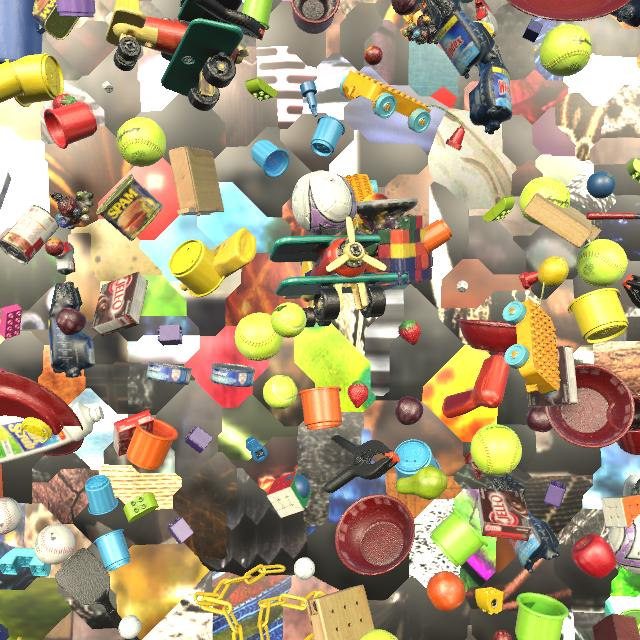ycb_004_sugar_box: (0, 169, 11, 210)
ycb_005_tomato_soup_can: (0, 205, 59, 264)
ycb_006_mustard_bottle: (180, 228, 257, 291)
ycb_007_tuna_fish_can: (211, 363, 256, 387), (146, 362, 192, 385)
ycb_008_pudding_box: (91, 272, 148, 337), (527, 345, 579, 408), (477, 487, 532, 541)
ycb_009_gelatin_box: (113, 409, 154, 456)
ycb_010_potted_meat_can: (96, 174, 163, 241), (33, 0, 80, 40)
ycb_012_strawberry: (347, 380, 369, 408), (398, 320, 421, 345), (53, 94, 78, 109)
ycb_013_apple: (571, 533, 616, 578)
ycb_014_lemon: (538, 256, 569, 288), (475, 21, 494, 37)
ycb_015_peach: (363, 193, 388, 201)
ycb_016_pear: (395, 465, 448, 500)
ycb_017_orange: (427, 571, 465, 611)
ycb_018_plum: (56, 307, 86, 335), (395, 396, 423, 425), (526, 407, 552, 432), (391, 0, 418, 16)
